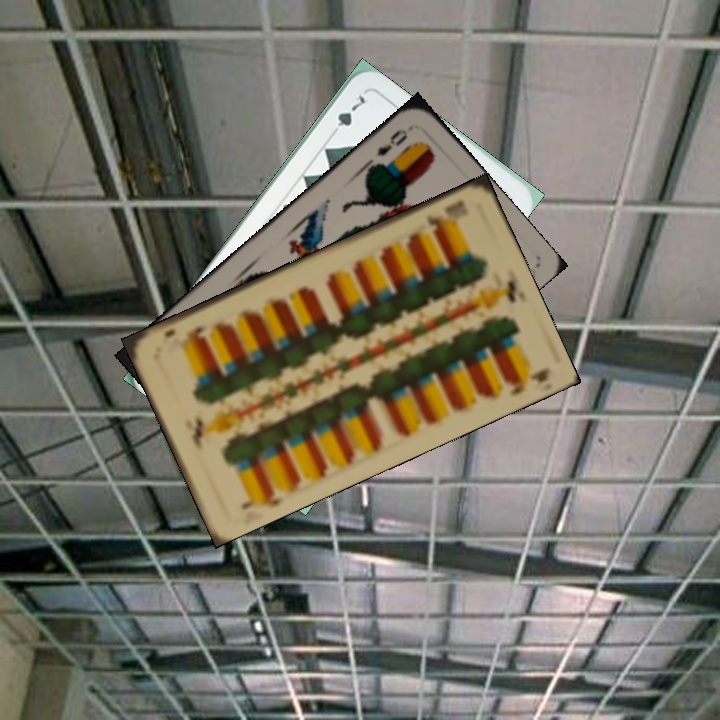E10: (422, 196, 467, 235), (237, 488, 286, 512)
EO: (372, 124, 411, 159)
G7: (325, 91, 370, 141)
